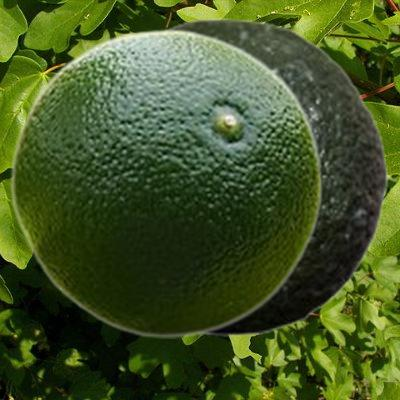calamansi: (9, 28, 322, 337), (164, 18, 388, 335)
